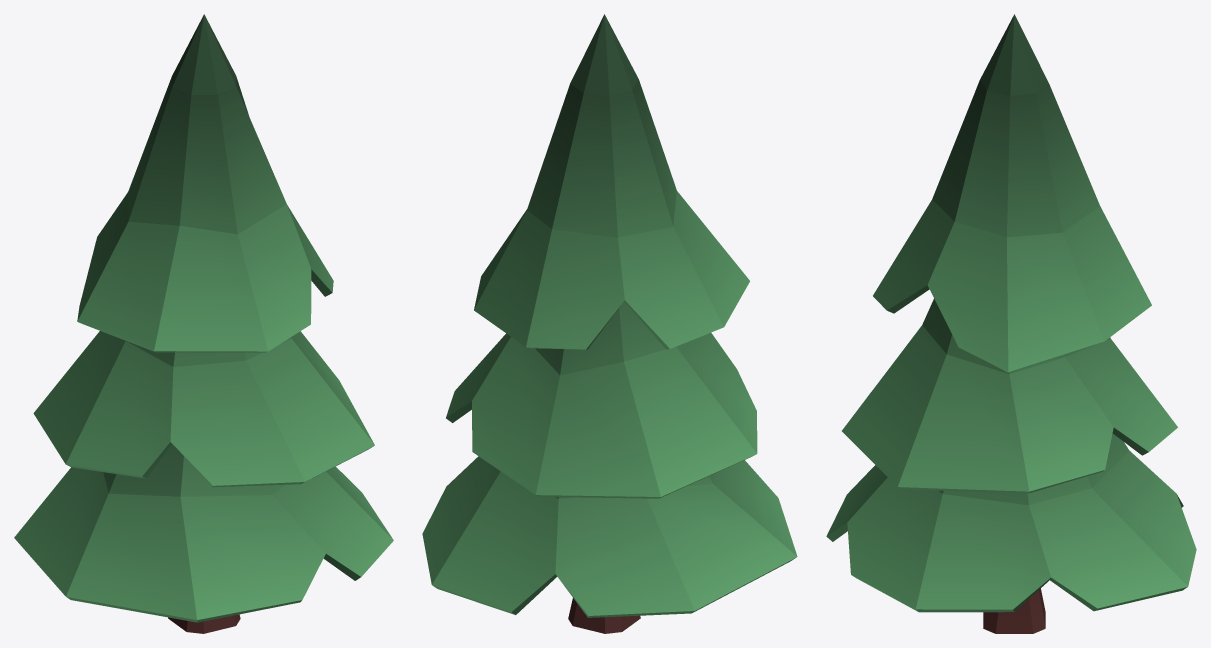
Rendered from DarkPine2.fbx.
The picture shows the model from 3 angles, left to right: view 1: azimuth 30°, elevation 25°; view 2: azimuth 150°, elevation 25°; view 3: azimuth 270°, elevation 25°; orthographic projection.
Parts seen in each view (by area): view 1: DarkPine2; view 2: DarkPine2; view 3: DarkPine2.
Part boxes in pixels (bbox=[...]): DarkPine2: bbox=[14, 14, 393, 633]; DarkPine2: bbox=[422, 14, 797, 633]; DarkPine2: bbox=[826, 14, 1196, 633].
Size of the model in its own units: 432 by 773 by 428.
